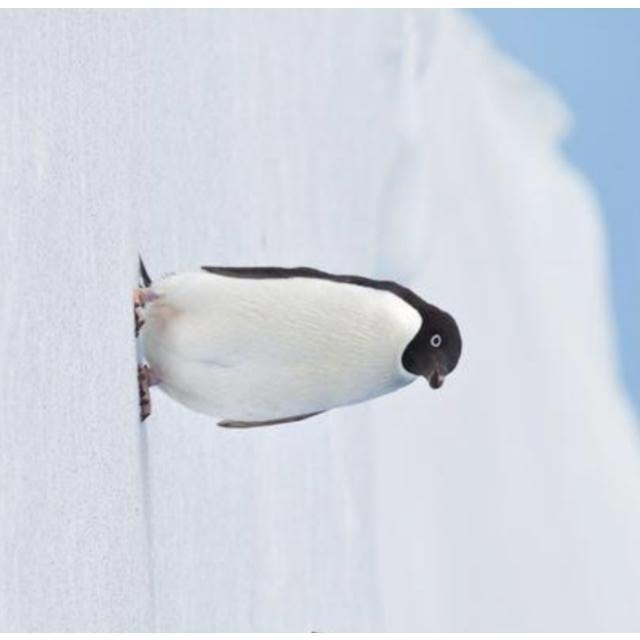penguin: (133, 262, 463, 429)
